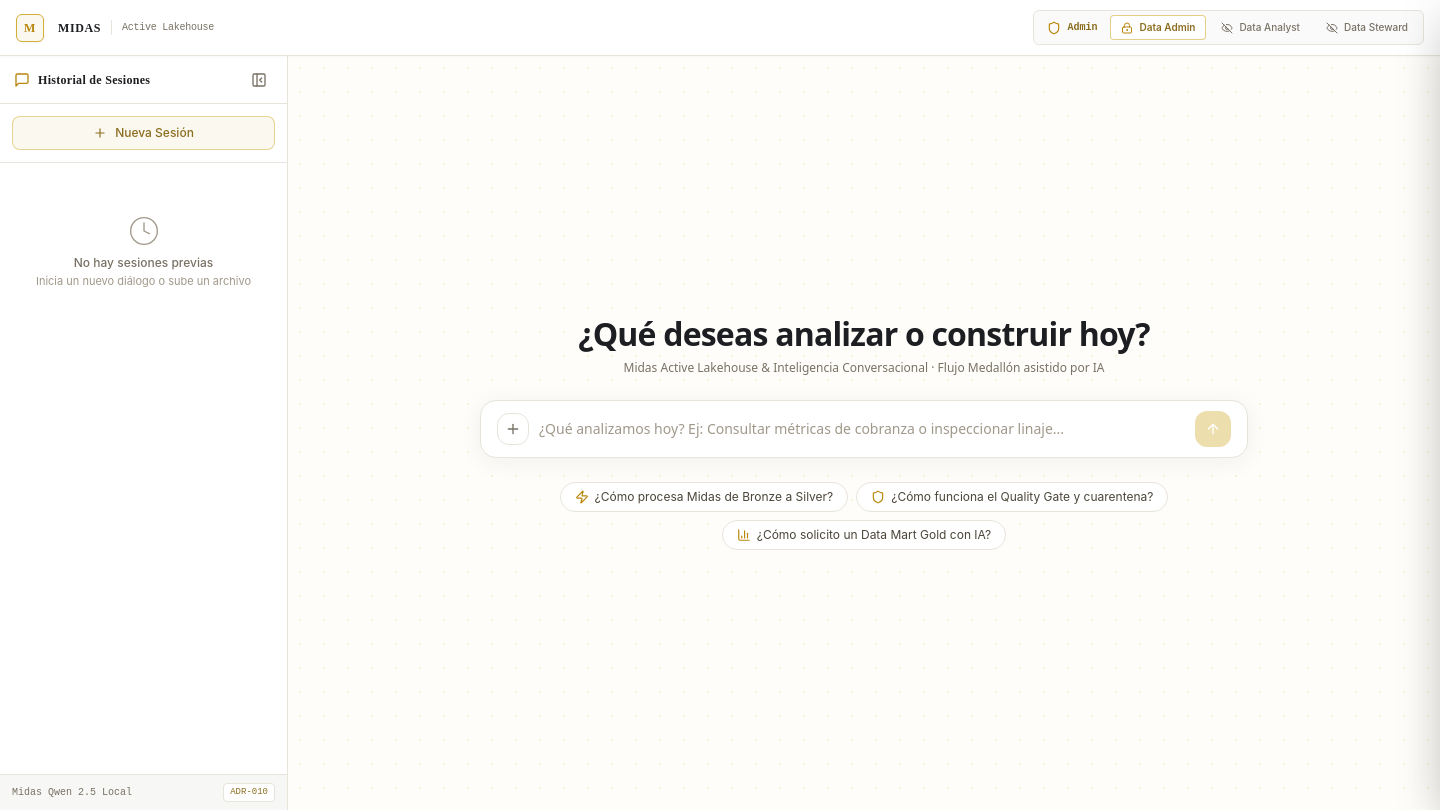
Test case: Menú «+» Conversacional de Fuentes de Datos (SourceActionMenu) › 5. Verificación de Despliegue Único del Historial (Criterio #2) › confirma que NO existe botón de colapsado en el Header y solo existe en el Sidebar
// Colapsar el sidebar y verificar botón de expansión
Click the button named "Colapsar historial": [259, 80] box x1=245 y1=66 x2=273 y2=94
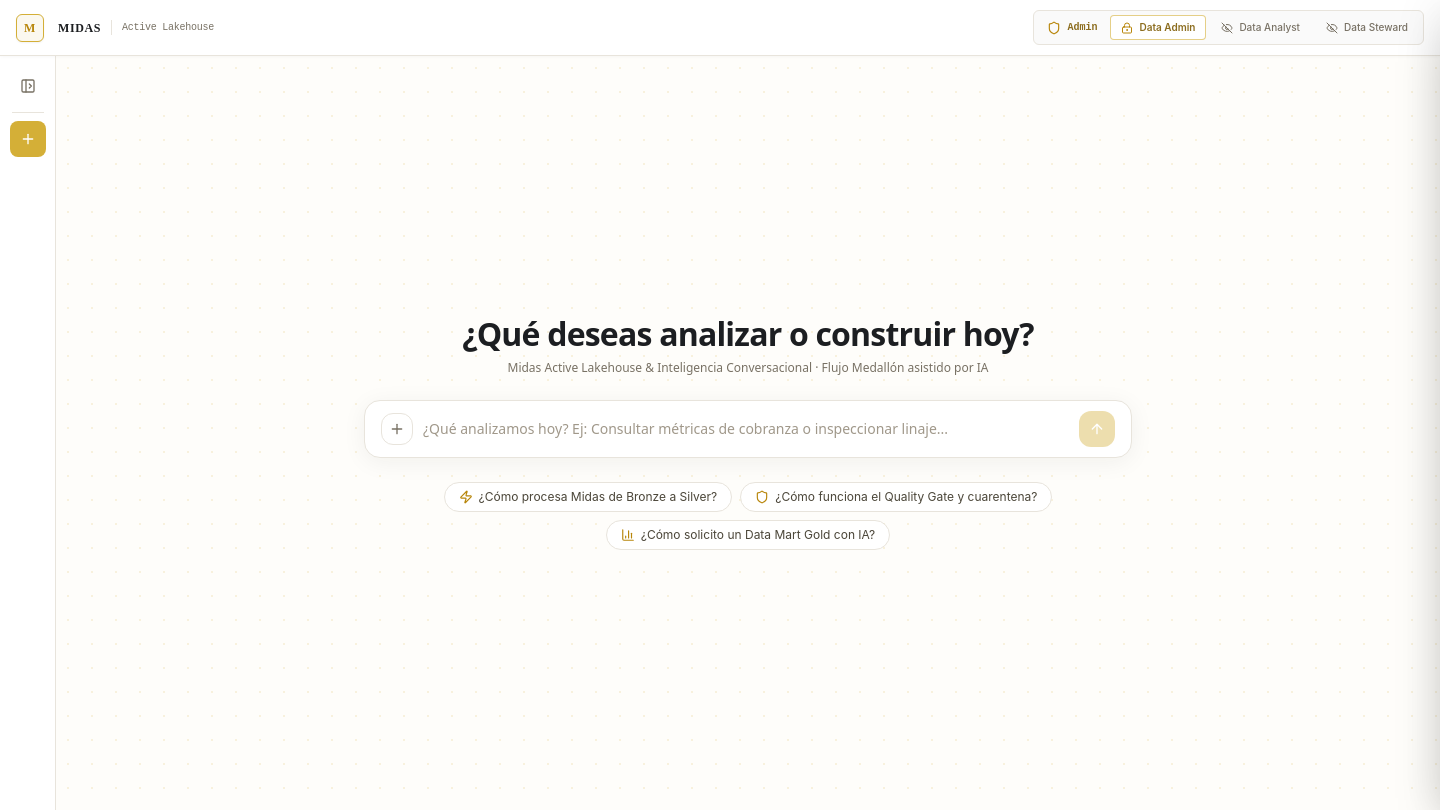
Expected: the button named "Expandir historial de sesiones" is shown, x1=10 y1=68 x2=46 y2=104
